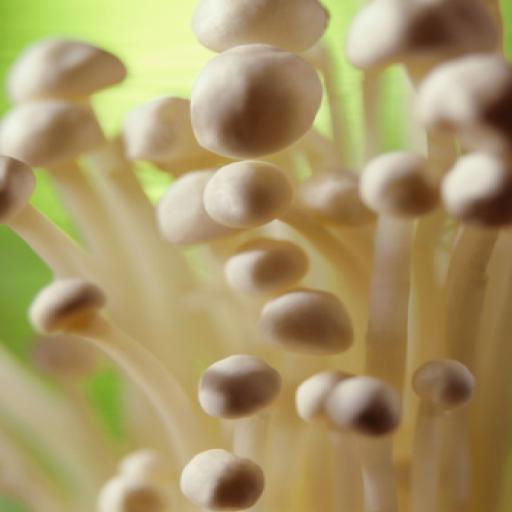Enoki Mushroom: (4, 4, 512, 442)
